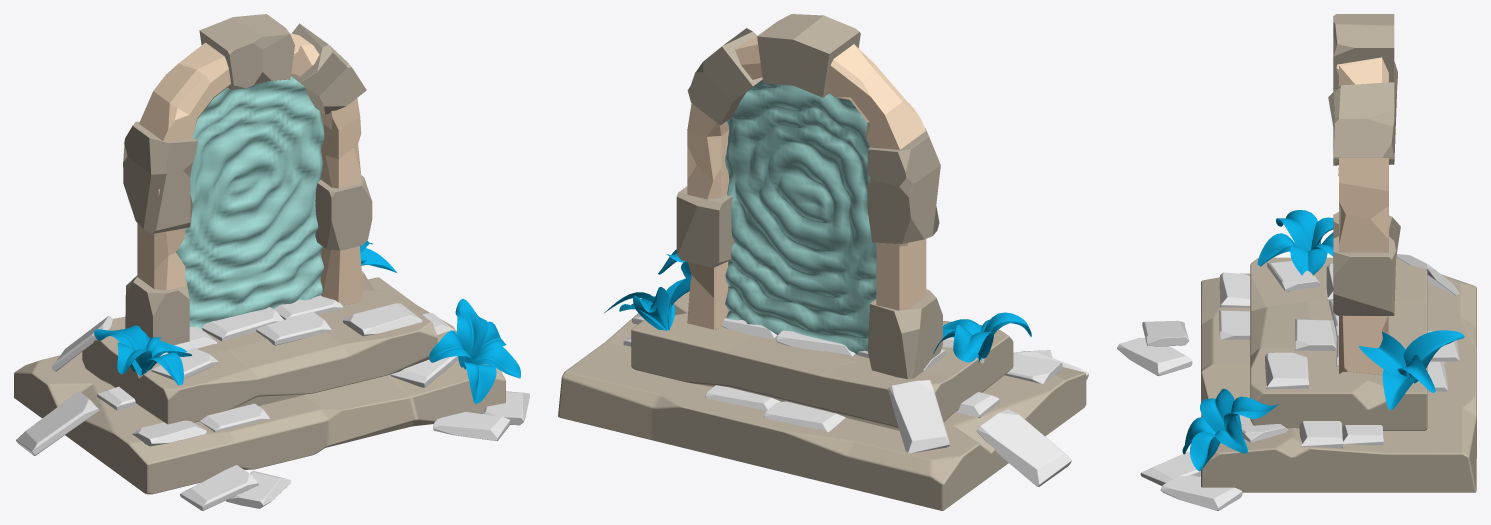
The model's file is Portal.fbx.
The picture shows the model from 3 angles, left to right: view 1: azimuth 30°, elevation 25°; view 2: azimuth 150°, elevation 25°; view 3: azimuth 270°, elevation 25°; orthographic projection. The views are drawn at different scales.
Visible parts, largest first — view 1: Plane.003, Plane.004, Plane.001, Plane.002, Plane.005, Plane.008, Plane.006, Cube.009, Cube.019, Cube.016, Stone Slab, Cube.015 (+10 smaller); view 2: Plane.003, Plane.004, Plane.001, Plane.002, Plane.005, Cube.009, Cube.014, Plane.006, Plane.007, Cube.013, Cube.002, Cube.012 (+3 smaller); view 3: Plane.004, Plane.002, Plane.001, Plane.005, Plane.008, Plane.007, Plane.006, Cube.017, Cube.018, Stone Slab, Cube.015, Cube.011 (+10 smaller).
Boxes of the visible parts, box(x1,y1,x2,y2) form: Plane.003: box(176, 76, 324, 329); Plane.004: box(14, 277, 505, 494); Plane.001: box(123, 14, 372, 344); Plane.002: box(82, 271, 437, 424); Plane.005: box(137, 33, 363, 304); Plane.008: box(429, 298, 520, 403); Plane.006: box(94, 325, 191, 385); Cube.009: box(16, 391, 99, 455); Cube.019: box(180, 465, 258, 510); Cube.016: box(433, 412, 510, 440); Stone Slab: box(343, 303, 422, 336); Cube.015: box(256, 312, 331, 345); Plane.003: box(725, 79, 876, 354); Plane.004: box(558, 313, 1086, 510); Plane.001: box(676, 14, 942, 379); Plane.002: box(631, 291, 1013, 430); Plane.005: box(687, 36, 926, 329); Cube.009: box(976, 409, 1071, 486); Cube.014: box(888, 380, 949, 453); Plane.006: box(933, 312, 1031, 362); Plane.007: box(604, 275, 691, 330); Cube.013: box(763, 401, 846, 431); Cube.002: box(1004, 353, 1062, 383); Cube.012: box(705, 385, 781, 410); Plane.004: box(1201, 273, 1476, 492); Plane.002: box(1250, 257, 1427, 430); Plane.001: box(1328, 14, 1400, 315); Plane.005: box(1336, 57, 1388, 375); Plane.008: box(1182, 388, 1278, 471); Plane.007: box(1358, 330, 1464, 409); Plane.006: box(1257, 210, 1333, 275); Cube.017: box(1160, 475, 1242, 510); Cube.018: box(1117, 337, 1192, 375); Stone Slab: box(1265, 352, 1308, 389); Cube.015: box(1295, 318, 1336, 351); Cube.011: box(1299, 421, 1342, 448).
Size of the model in its own units: 592 by 475 by 406.
